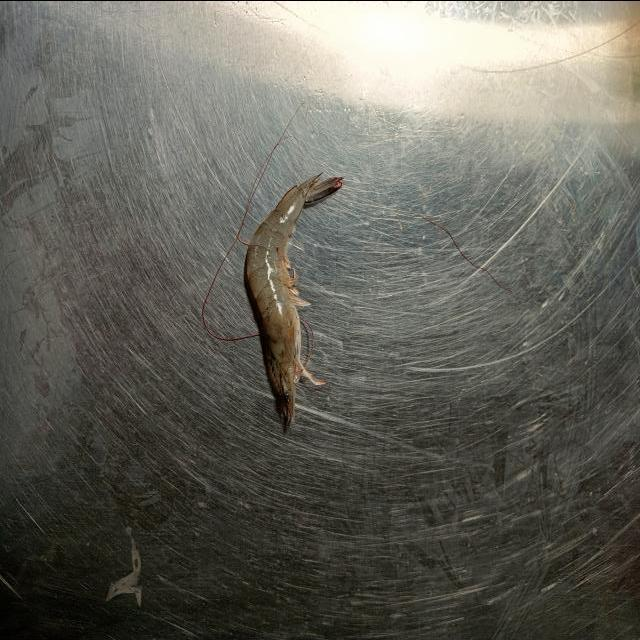shrimp: (245, 174, 342, 428)
